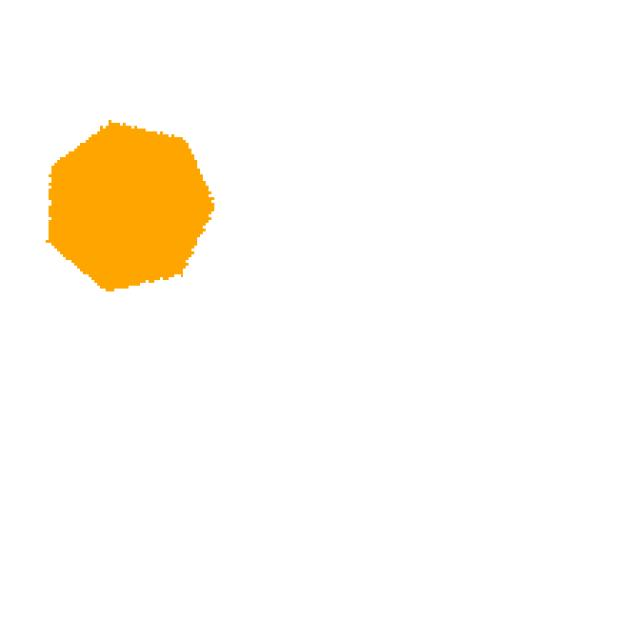Heptagon: (23, 116, 278, 326)
